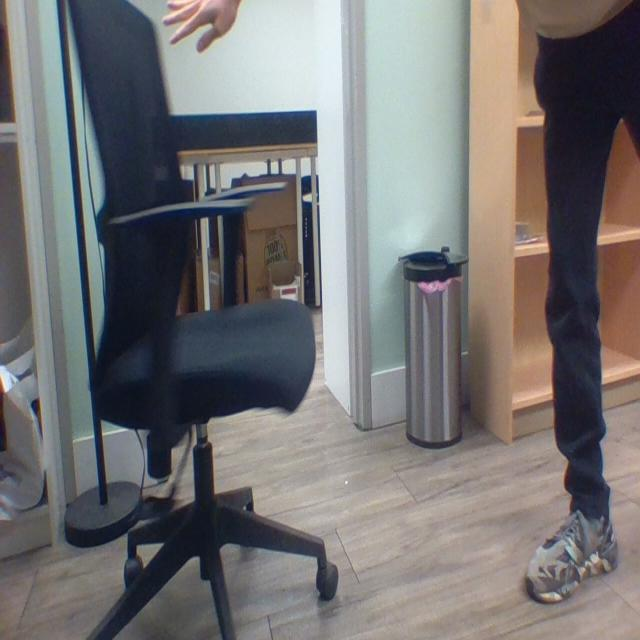black-chair: (63, 0, 343, 639)
